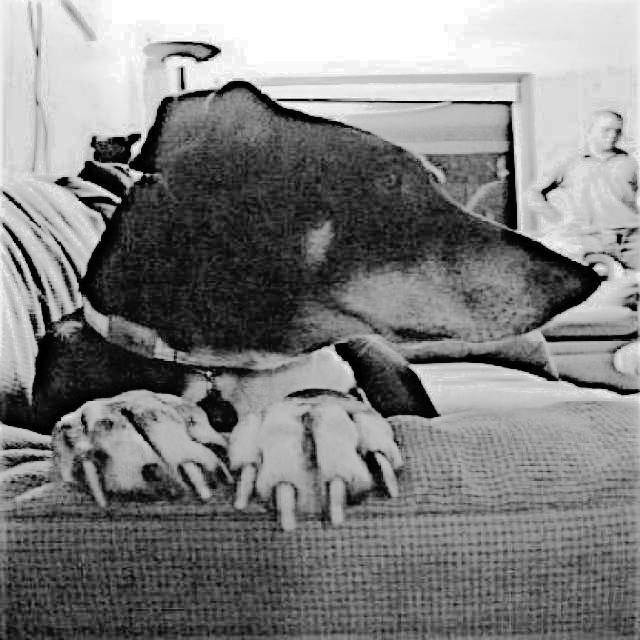Person: (28, 76, 610, 532), (521, 105, 640, 272)
